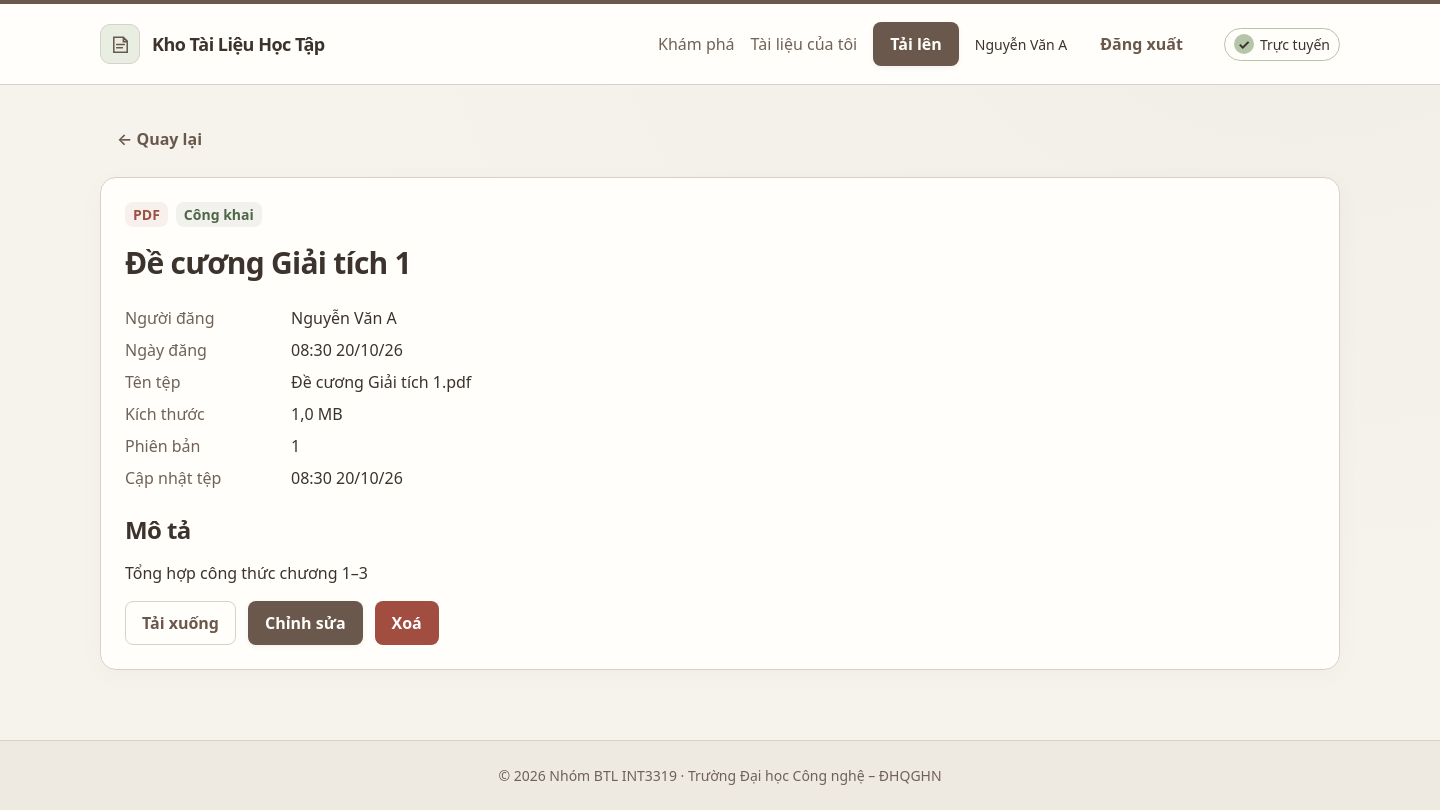
upload and document management › prechecks the session before download and directs an expired session to login
Expected: the heading "Đề cương Giải tích 1" is shown, [125,242,411,283]
Click the button "Tải xuống" at (180, 623), box [125,601,236,645]
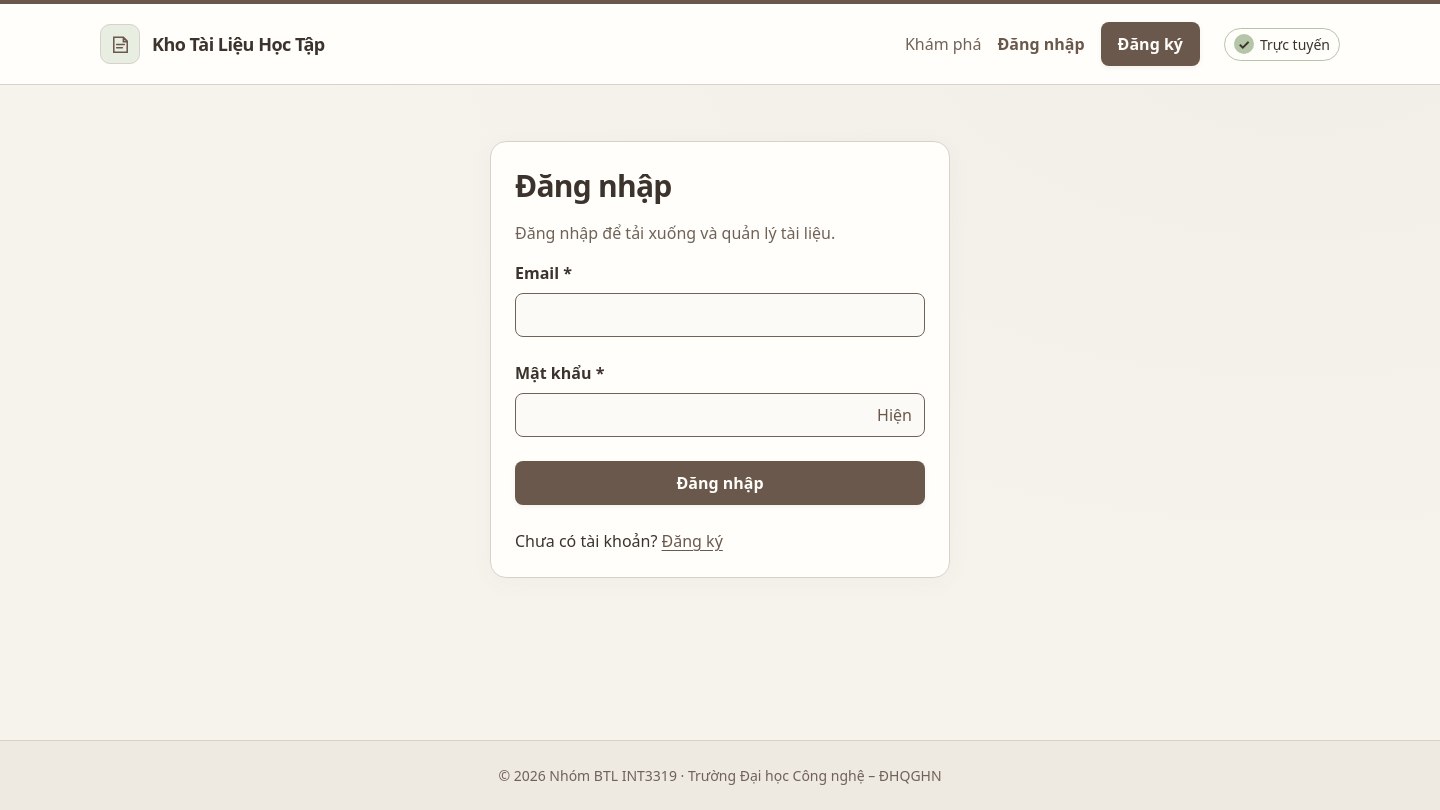
Result: the heading "Đăng nhập" is shown at [515,165,672,206]
